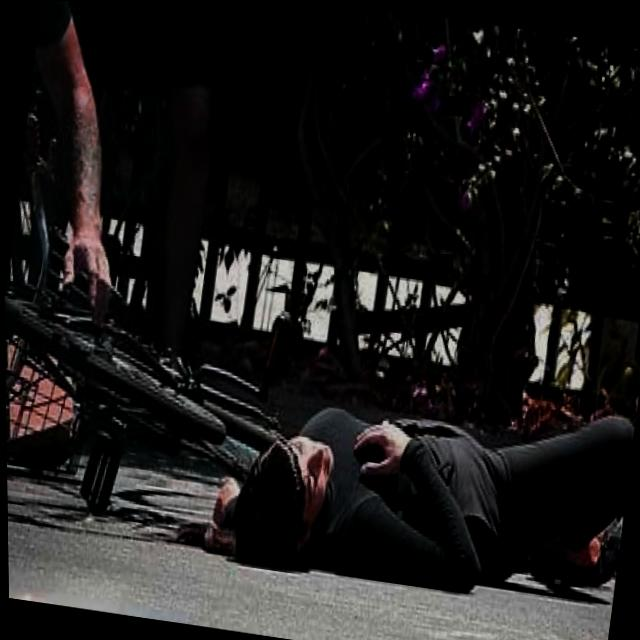Fall-Detected: (178, 331, 640, 617)
